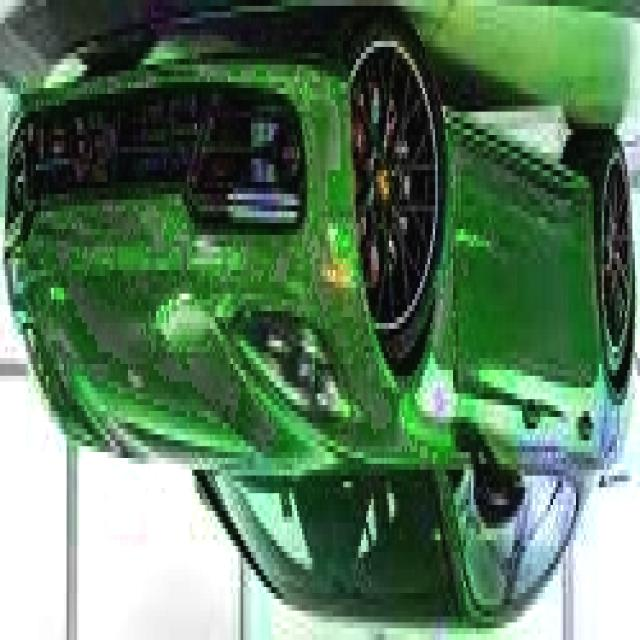green: (4, 35, 634, 628)
